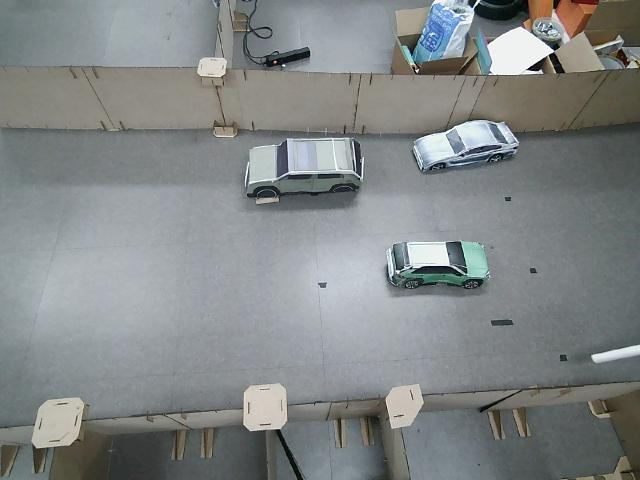car: (242, 136, 367, 201), (411, 118, 521, 174), (384, 239, 492, 292)
